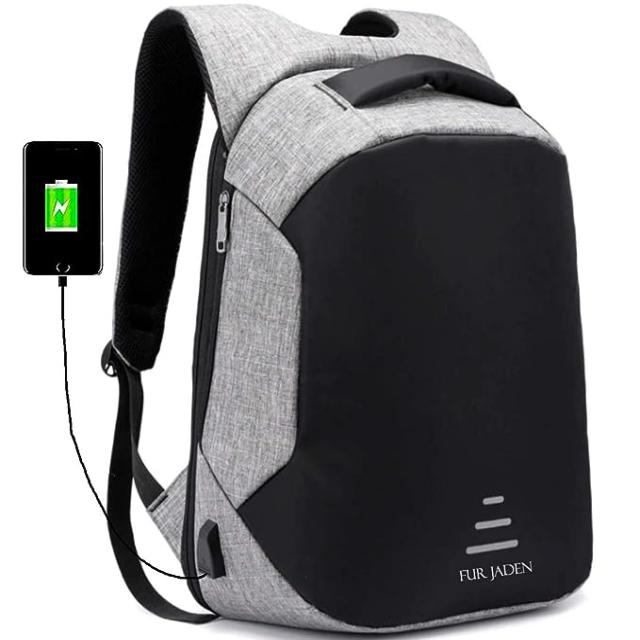backpack: (101, 4, 595, 635)
